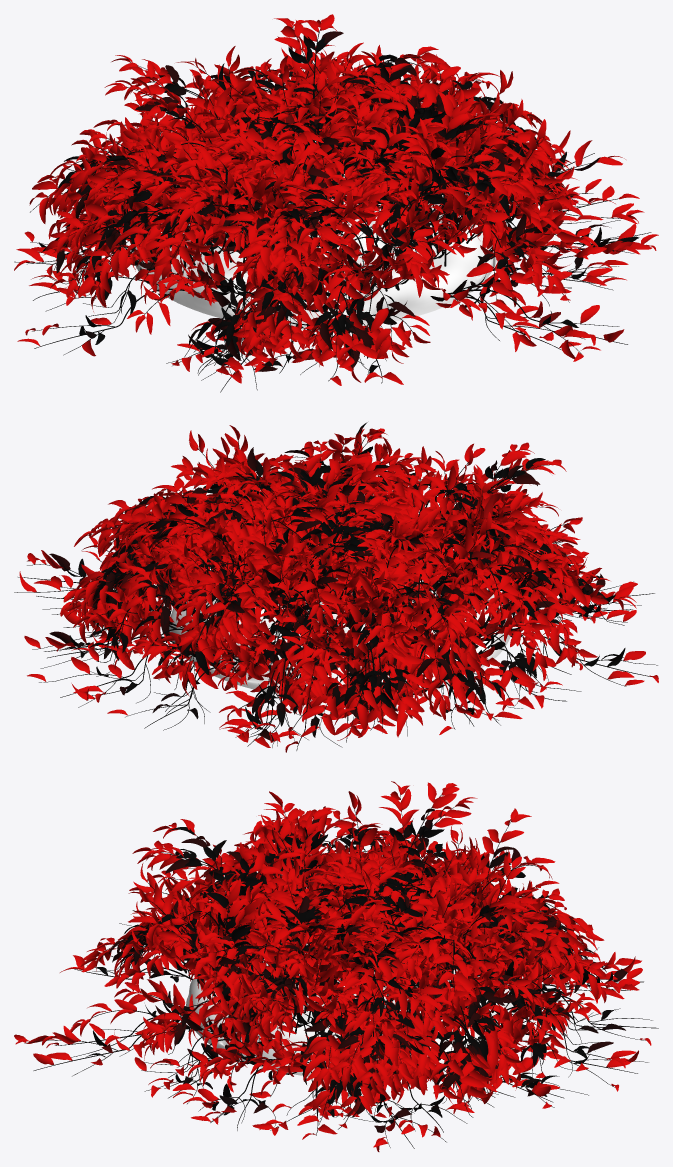
File: NewPlantResized_03.fbx
3 renders of one model, top to bottom at view 1: azimuth 30°, elevation 25°; view 2: azimuth 150°, elevation 25°; view 3: azimuth 270°, elevation 25°, orthographic. The views are drawn at different scales.
Visible parts, largest first — view 1: Pyrrosia_Lingua_Zone; view 2: Pyrrosia_Lingua_Zone; view 3: Pyrrosia_Lingua_Zone.
Boxes of the visible parts, <box> form: Pyrrosia_Lingua_Zone: <box>14,14,658,392</box>; Pyrrosia_Lingua_Zone: <box>14,422,658,752</box>; Pyrrosia_Lingua_Zone: <box>14,781,658,1151</box>.
Size of the model in its own units: 763 by 196 by 717.
